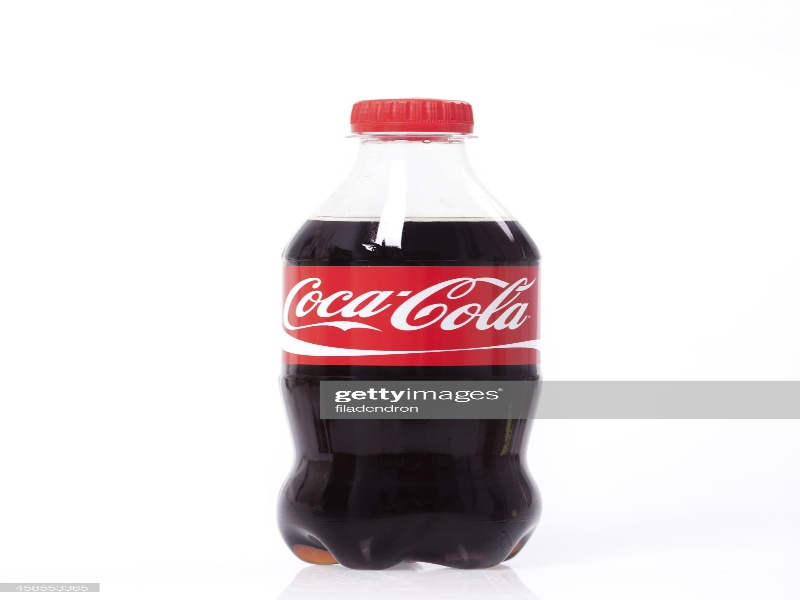coke-bottle-300ml: (265, 82, 544, 572)
